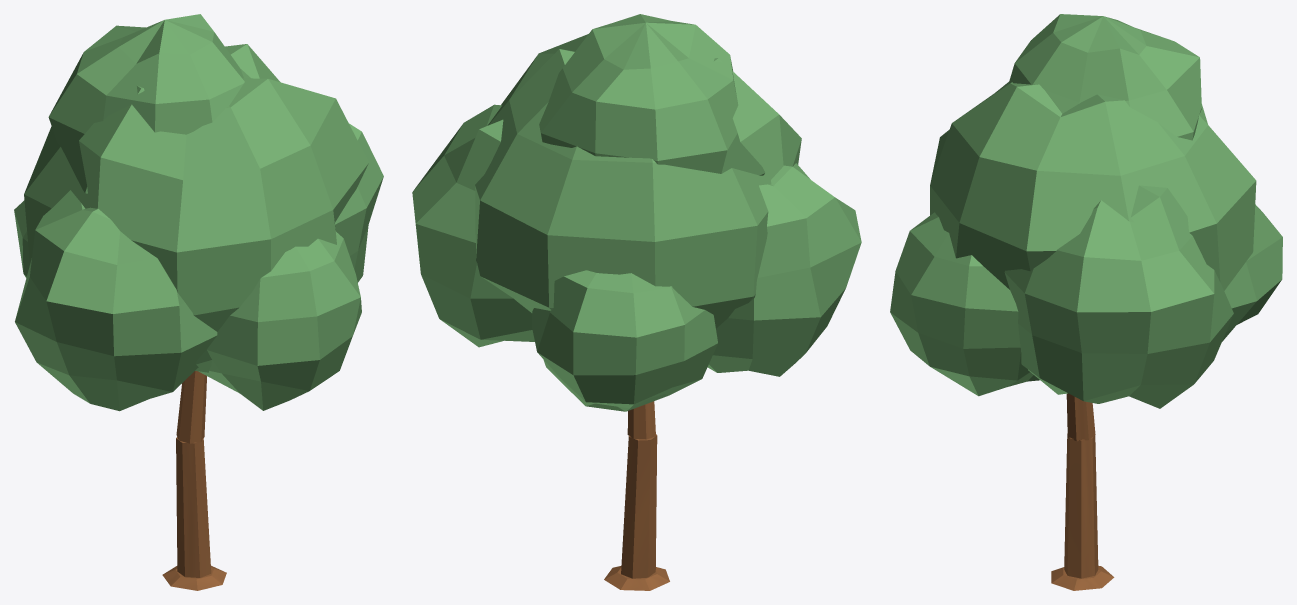
The model's file is Tree_A.glb.
3 renders of one model, left to right at view 1: azimuth 30°, elevation 25°; view 2: azimuth 150°, elevation 25°; view 3: azimuth 270°, elevation 25°, orthographic. The views are drawn at different scales.
Visible parts, largest first — view 1: Foliage, Trunk; view 2: Foliage, Trunk; view 3: Foliage, Trunk.
Boxes of the visible parts, bbox=[...] form: Foliage: bbox=[14, 14, 383, 411]; Trunk: bbox=[162, 371, 226, 590]; Foliage: bbox=[412, 14, 861, 411]; Trunk: bbox=[604, 401, 669, 590]; Foliage: bbox=[890, 14, 1282, 408]; Trunk: bbox=[1051, 393, 1114, 590].
Bounding box in the file's own units: 3.86 × 5.52 × 3.56.
Materials: 2 (1 with a texture image).
